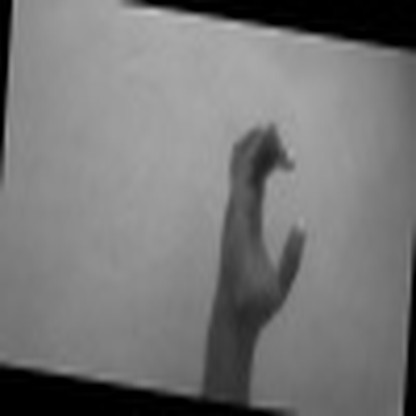c: (214, 113, 315, 311)
